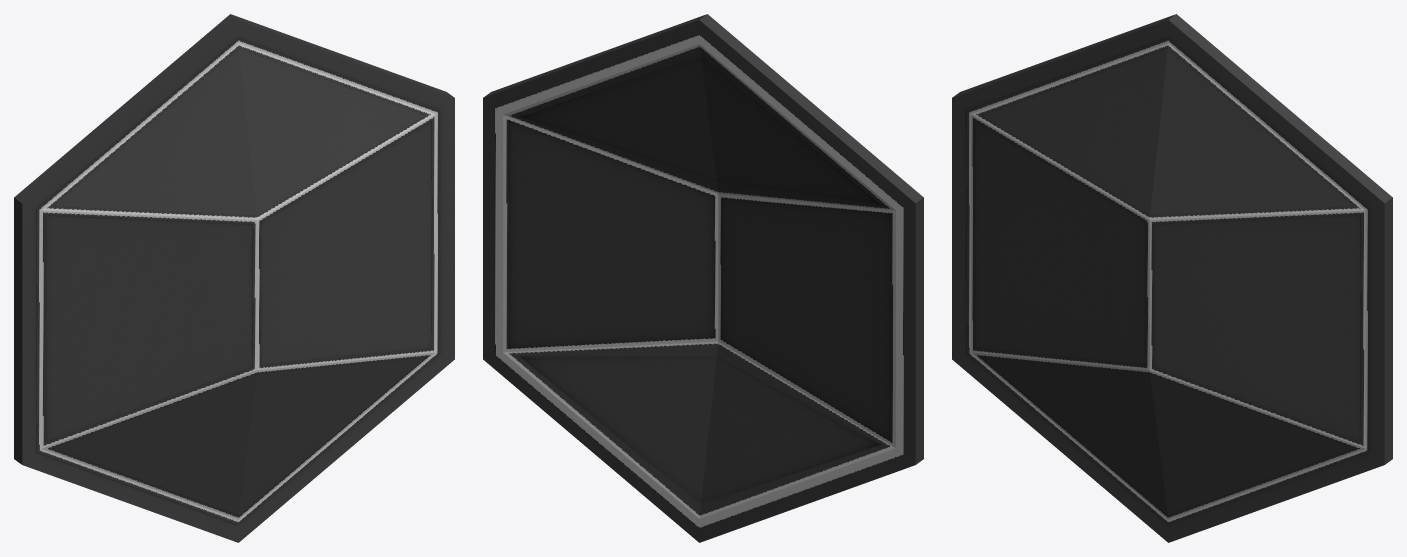
The model's file is vShield.fbx.
The picture shows the model from 3 angles, left to right: view 1: azimuth 30°, elevation 25°; view 2: azimuth 150°, elevation 25°; view 3: azimuth 330°, elevation 25°; orthographic projection.
Visible parts, largest first — view 1: vShield; view 2: vShield; view 3: vShield.
Boxes of the visible parts, x1,y1,x2,y2 form: vShield: (14,14,454,542); vShield: (483,14,923,542); vShield: (952,14,1392,542).
Bounding box in the file's own units: 58.06 × 67.04 × 6.26.
Materials: 1 (1 with a texture image).
